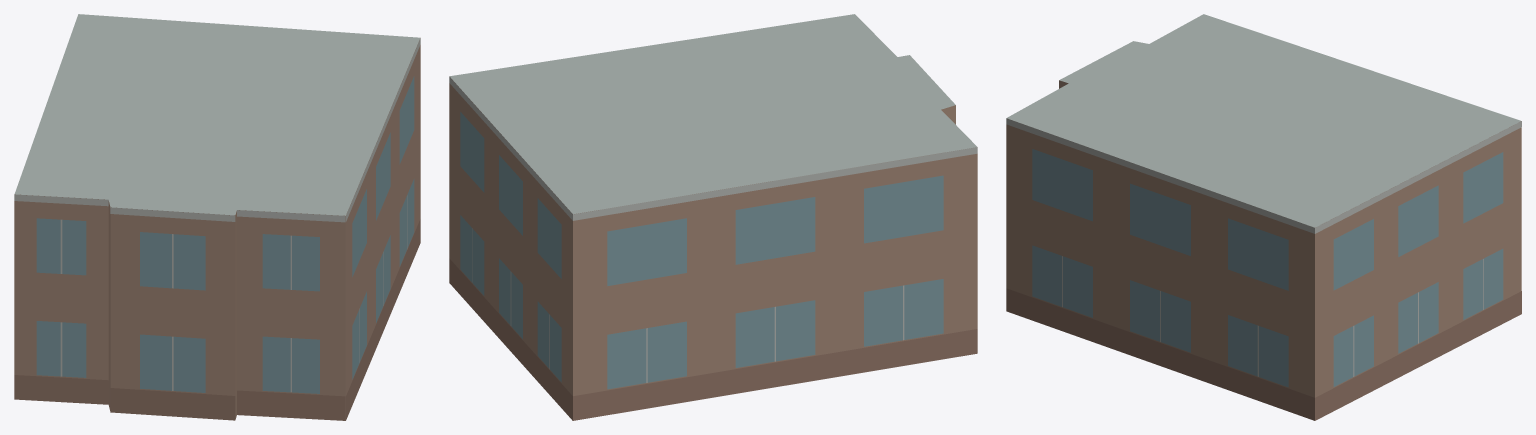
File: survey-upis-32764845.glb
3 views of the same model, side by side, from view 1: azimuth 30°, elevation 25°; view 2: azimuth 150°, elevation 25°; view 3: azimuth 270°, elevation 25° (orthographic). The views are drawn at different scales.
Visible parts, largest first — view 1: survey-upis-32764845.tmp; view 2: survey-upis-32764845.tmp; view 3: survey-upis-32764845.tmp.
Part boxes in pixels (left/top/right/bottom): survey-upis-32764845.tmp: left=14, top=14, right=420, bottom=420; survey-upis-32764845.tmp: left=449, top=14, right=977, bottom=420; survey-upis-32764845.tmp: left=1006, top=14, right=1521, bottom=420.
Size of the model in its own units: 18.05 by 7.6 by 18.39.
